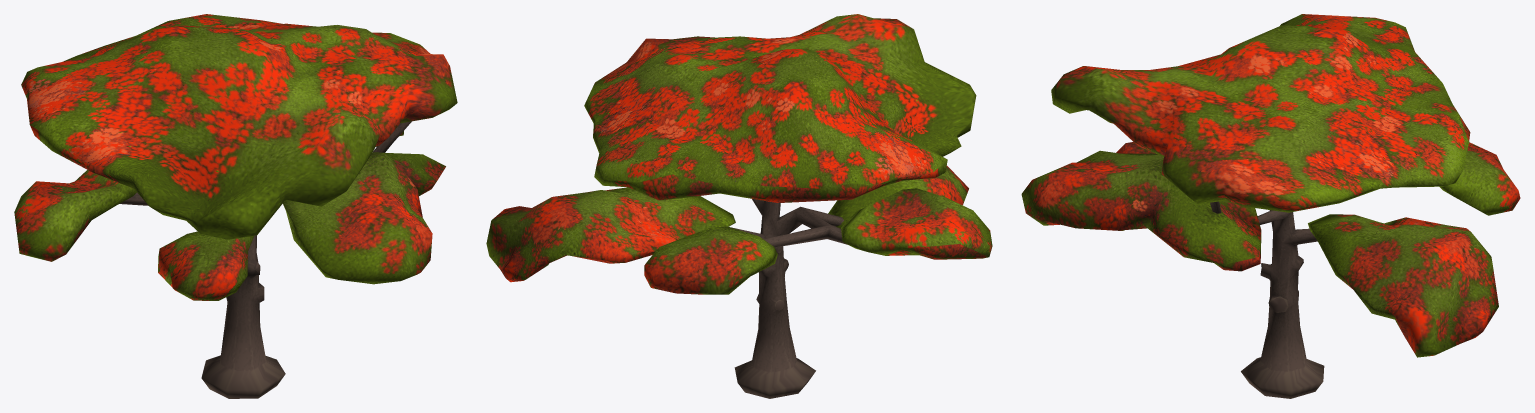
The model's file is Tree-Royal-Poinciana-1.fbx.
3 views of the same model, side by side, from view 1: azimuth 30°, elevation 25°; view 2: azimuth 150°, elevation 25°; view 3: azimuth 270°, elevation 25° (orthographic). The views are drawn at different scales.
Parts seen in each view (by area): view 1: CedarTree_Mesh; view 2: CedarTree_Mesh; view 3: CedarTree_Mesh.
Part boxes in pixels (x1,y1,x2,y2): CedarTree_Mesh: [14, 14, 457, 398]; CedarTree_Mesh: [486, 14, 992, 398]; CedarTree_Mesh: [1021, 14, 1520, 398].
Bounding box in the file's own units: 1243 × 900 × 1213.
1 material, 1 textured.
